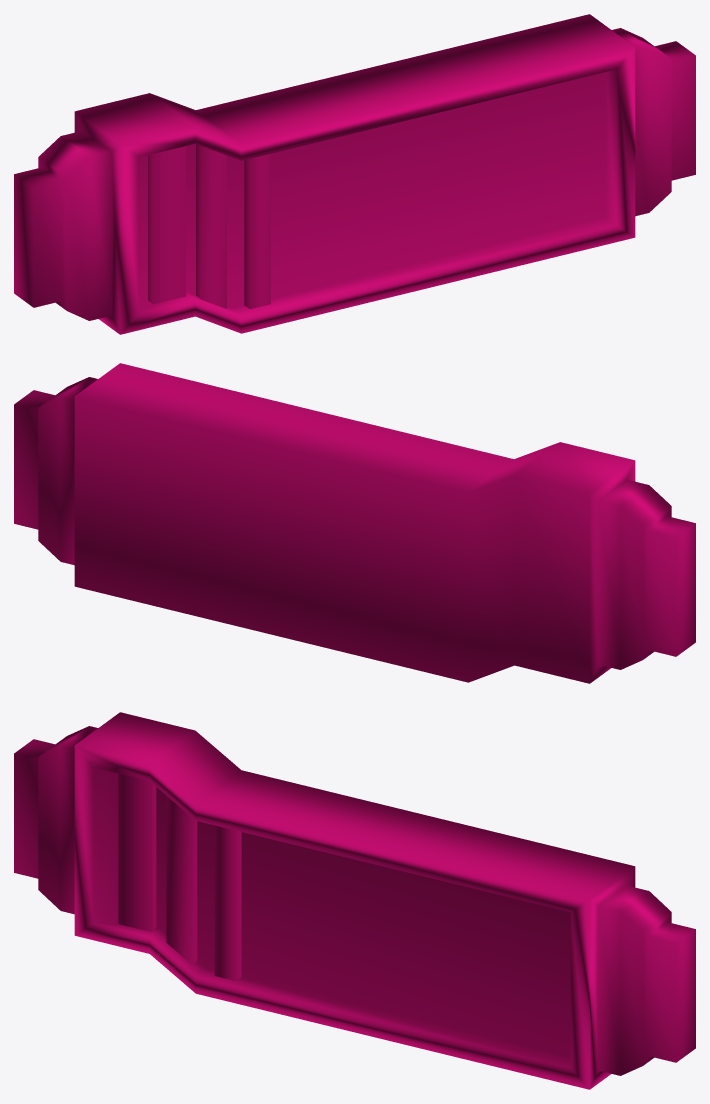
Rendered from button_1.fbx.
3 renders of one model, top to bottom at view 1: azimuth 30°, elevation 25°; view 2: azimuth 150°, elevation 25°; view 3: azimuth 330°, elevation 25°, orthographic.
Visible parts, largest first — view 1: b1_Low, paal_b1_Low; view 2: b1_Low; view 3: b1_Low, paal_b1_Low.
Boxes of the visible parts, box(x1,y1,x2,y2) form: b1_Low: box(14, 14, 695, 334); paal_b1_Low: box(148, 144, 270, 309); b1_Low: box(14, 363, 695, 683); b1_Low: box(14, 712, 695, 1089); paal_b1_Low: box(118, 773, 241, 980).
Size of the model in its own units: 613 by 193 by 73.28.
